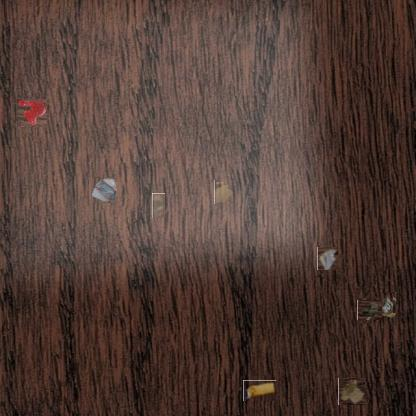dirty: (338, 378, 366, 405), (90, 177, 118, 203), (243, 380, 276, 401), (374, 292, 398, 318), (316, 247, 339, 270), (359, 299, 381, 322), (152, 193, 165, 218)
liquid: (18, 98, 46, 126), (214, 180, 233, 204)
